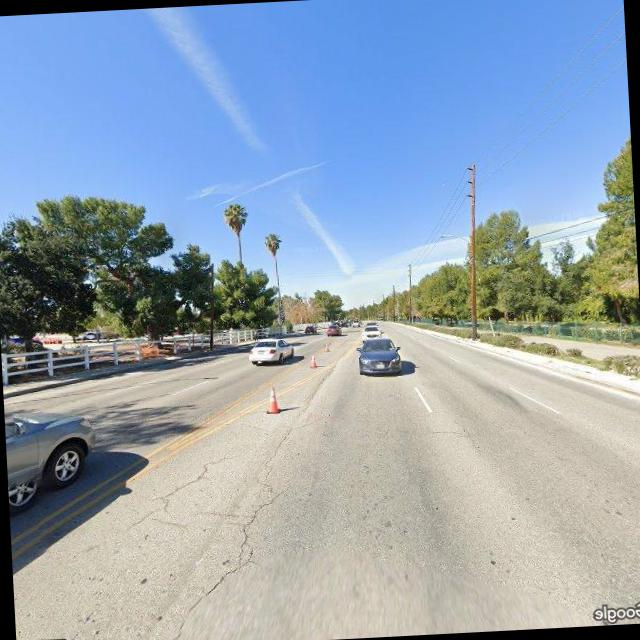crack: (122, 422, 327, 640)
pothole: (132, 449, 240, 528), (447, 414, 488, 456)
